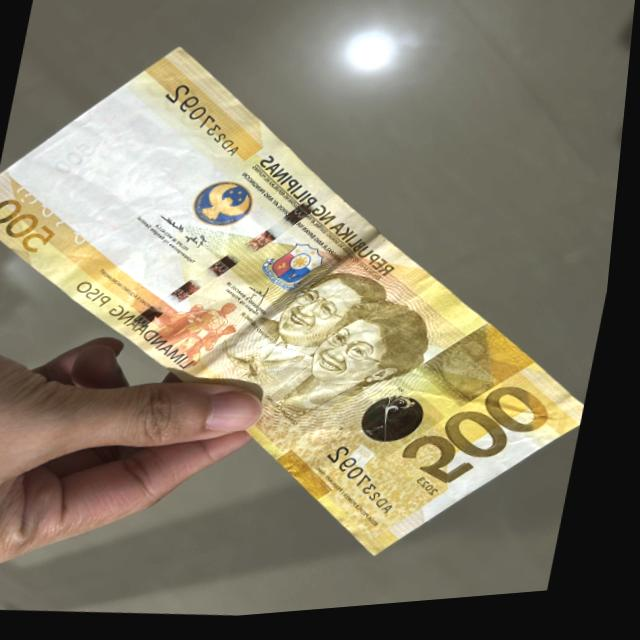concealed_value: (424, 335, 534, 411)
optically_variable_device: (367, 393, 444, 453)
see_through_mark: (6, 178, 115, 251)
serial_number: (147, 78, 258, 167), (318, 444, 415, 531)
value: (406, 384, 555, 503)
